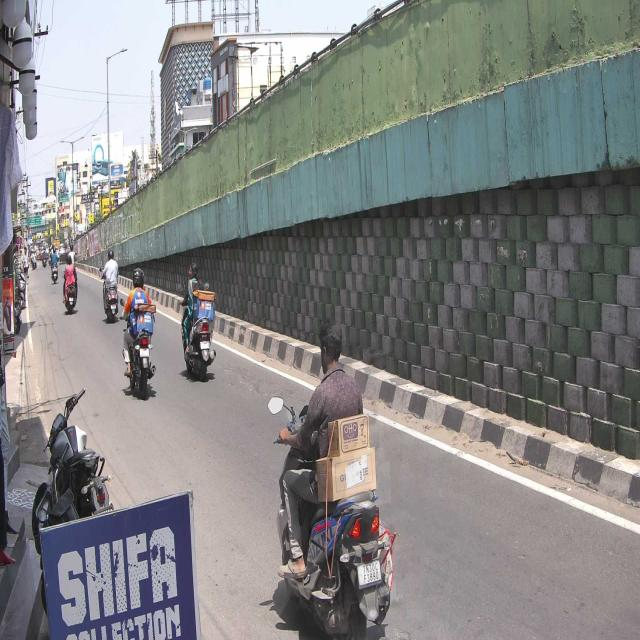single_rider: (266, 315, 394, 640), (176, 261, 217, 383), (120, 266, 157, 398)
